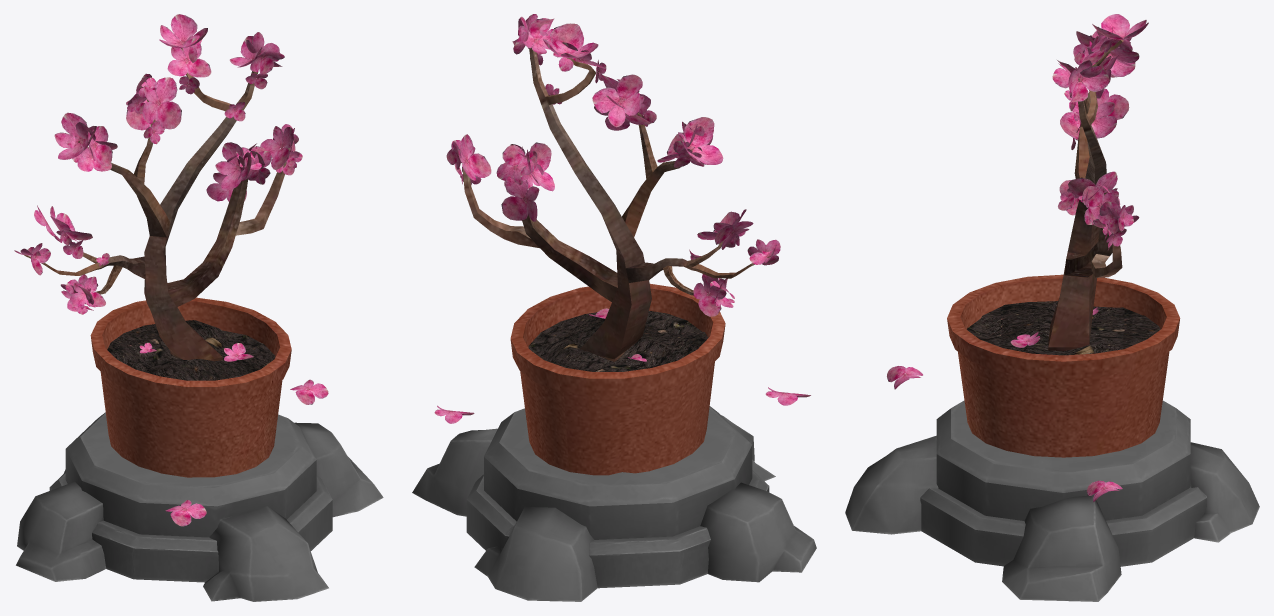
The model's file is plantaSakura.glb.
3 views of the same model, side by side, from view 1: azimuth 30°, elevation 25°; view 2: azimuth 150°, elevation 25°; view 3: azimuth 270°, elevation 25° (orthographic). The views are drawn at different scales.
Visible parts, largest first — view 1: Rock_Pedestal_VR_m_StonePedestal_0, Object_7, Object_5, Object_2, Object_4; view 2: Rock_Pedestal_VR_m_StonePedestal_0, Object_7, Object_5, Object_2, Object_4; view 3: Rock_Pedestal_VR_m_StonePedestal_0, Object_7, Object_5, Object_2, Object_4.
Boxes of the visible parts, bbox=[...] form: Rock_Pedestal_VR_m_StonePedestal_0: bbox=[16, 412, 383, 601]; Object_7: bbox=[90, 297, 291, 477]; Object_5: bbox=[14, 14, 328, 526]; Object_2: bbox=[24, 44, 290, 361]; Object_4: bbox=[107, 320, 275, 380]; Rock_Pedestal_VR_m_StonePedestal_0: bbox=[412, 406, 816, 601]; Object_7: bbox=[510, 283, 725, 475]; Object_5: bbox=[434, 14, 810, 423]; Object_2: bbox=[462, 47, 770, 361]; Object_4: bbox=[528, 310, 708, 371]; Rock_Pedestal_VR_m_StonePedestal_0: bbox=[845, 400, 1259, 601]; Object_7: bbox=[947, 274, 1180, 457]; Object_5: bbox=[887, 14, 1148, 502]; Object_2: bbox=[1048, 39, 1123, 351]; Object_4: bbox=[967, 301, 1160, 355].
Bounding box in the file's own units: 1.72 × 2.23 × 1.67.
5 materials, 5 textured.
